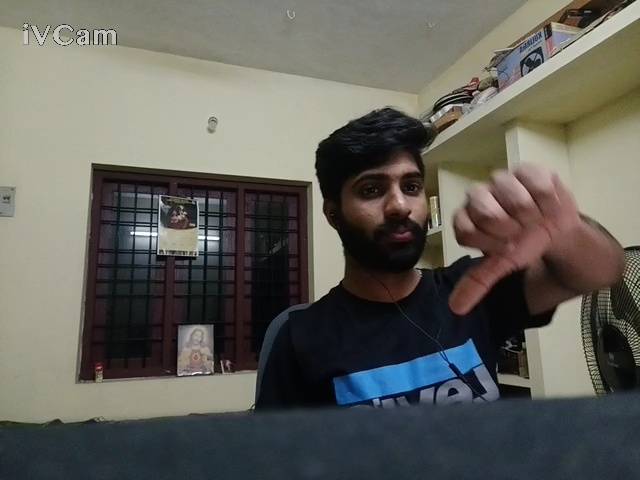No: (424, 152, 607, 335)
